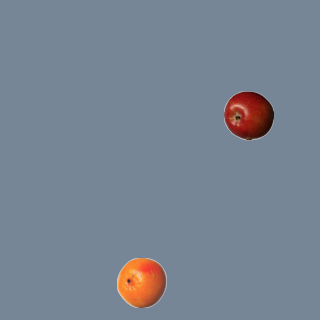Apple Braeburn: (223, 90, 273, 140)
Grapefruit Pink: (116, 257, 166, 307)
